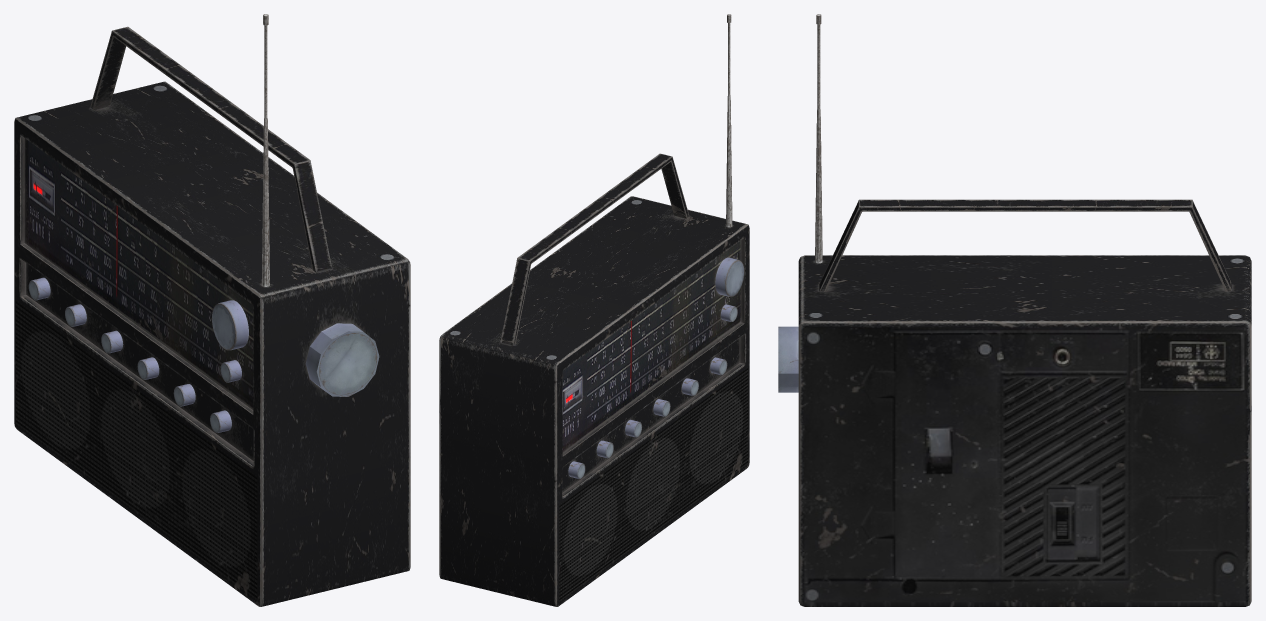
File: sillent_hill_pt_radio.glb
The picture shows the model from 3 angles, left to right: view 1: azimuth 30°, elevation 25°; view 2: azimuth 150°, elevation 25°; view 3: azimuth 270°, elevation 25°; orthographic projection. The views are drawn at different scales.
Parts seen in each view (by area): view 1: Plane.003_Plane.002; view 2: Plane.003_Plane.002; view 3: Plane.003_Plane.002.
Part boxes in pixels (box(x1,y1,x2,y2)): Plane.003_Plane.002: box(14, 14, 410, 606); Plane.003_Plane.002: box(439, 14, 749, 606); Plane.003_Plane.002: box(778, 14, 1251, 606).
Size of the model in its own units: 0.576 by 2 by 1.61.
Materials: 1 (1 with a texture image).
